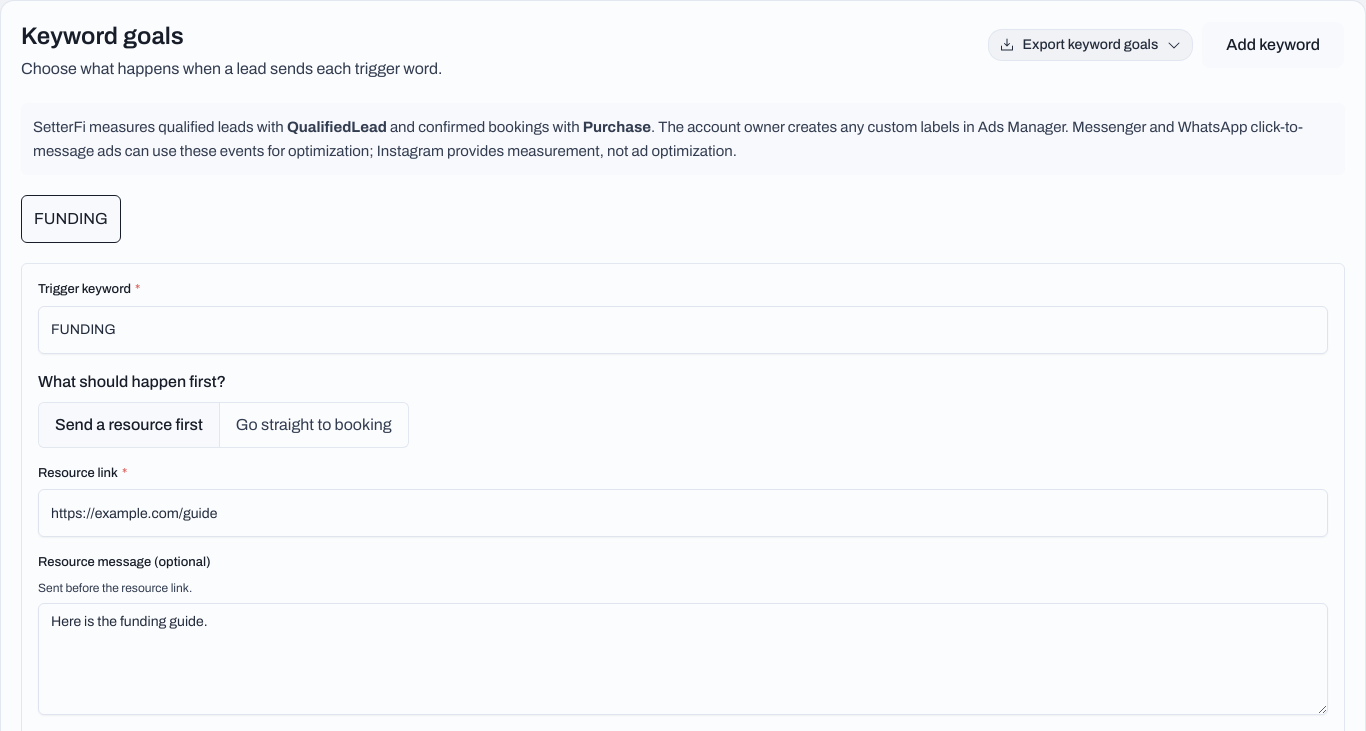
Test: CoachKeywordGoals › switches between resource and direct-book goals with large conditional controls
Check: the field labelled "Trigger keyword" holds "FUNDING", box [38,306,1328,354]
Check: the field labelled "Resource link" holds "https://example.com/guide", box [38,489,1328,537]
Step 1. Click the button "Go straight to booking" → (313, 424), box [219,402,408,446]
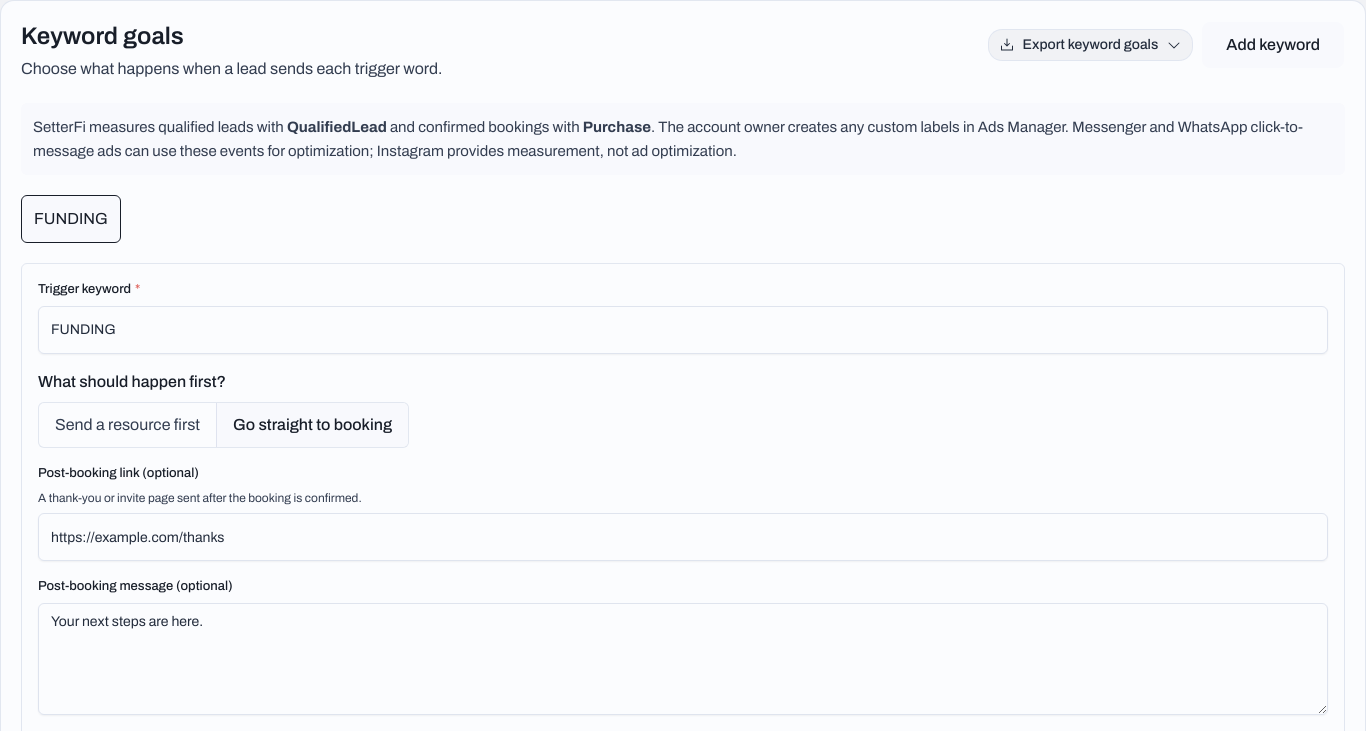
Check: the field labelled "Post-booking link (optional)" is shown, box [38,513,1328,561]
Check: the label labelled "Resource link" is gone
Check: the label labelled "Resource message (optional)" is gone
